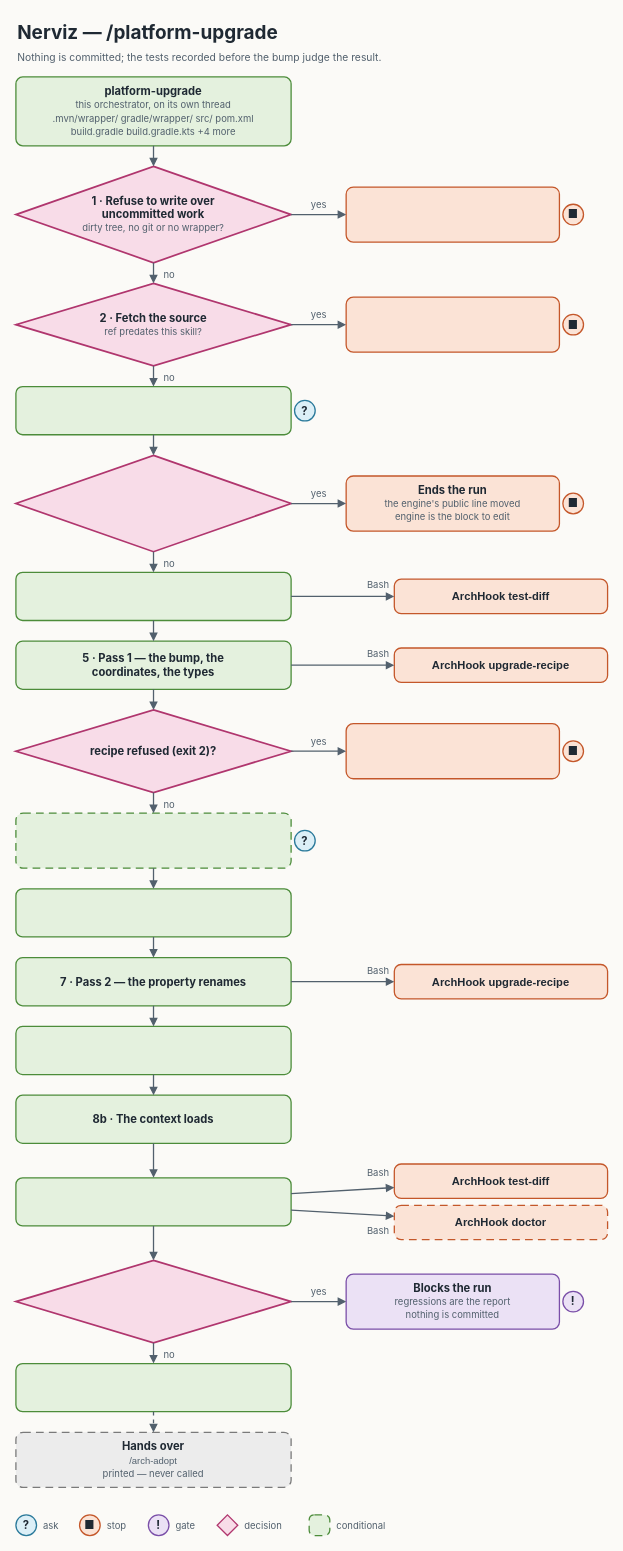
Image size: 623x1551. Some labels were removed from this diagram. Each missing label, with the centre of its shape:
"10 · Hand the diff over" goes at point 153,1387.
"3 · Resolve the target version" goes at point 153,410.
"4 · Resolve the engine's version no engine version resolves?" goes at point 153,503.
"4b · The baseline — what was red before the upgrade" goes at point 153,596.
"5b · The Gradle wrapper — before the new plugin configures anything conditional" goes at point 153,840.
"6 · The new classpath" goes at point 153,912.
"8 · The guided residue" goes at point 153,1050.
"9 · Verify" goes at point 153,1201.
"Ends the run says --ref must name a newer one" goes at point 452,324.
"Ends the run says what to run never offers to commit" goes at point 452,214.
"Ends the run shows the exit as it is or: nothing to upgrade" goes at point 452,751.
"test-diff exits 2?" goes at point 153,1301.
